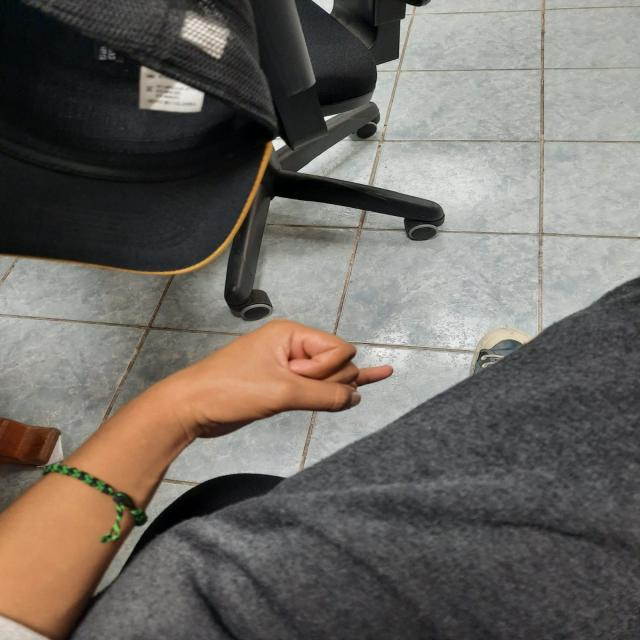Z: (105, 304, 419, 459)
